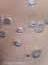plaque psoriasis: (29, 17, 48, 33), (13, 38, 23, 49), (31, 50, 43, 58), (4, 17, 12, 26), (26, 0, 37, 6), (16, 26, 24, 34), (0, 29, 6, 39), (4, 61, 13, 65), (0, 13, 1, 23)
